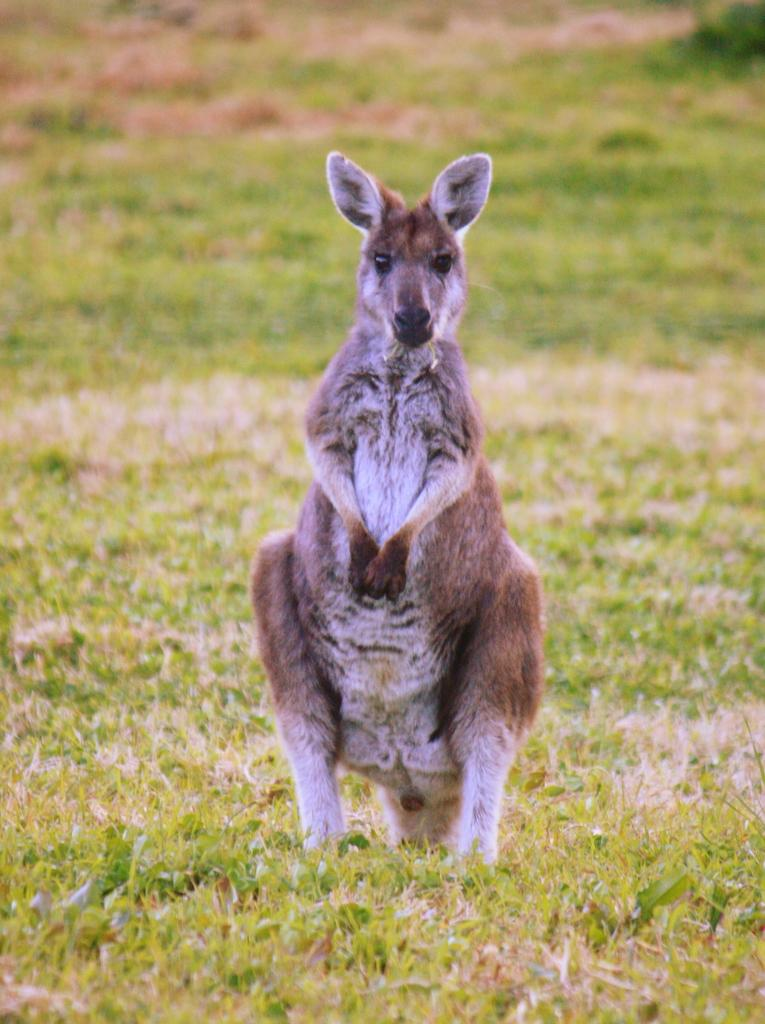kangaroo: (246, 146, 551, 874)
